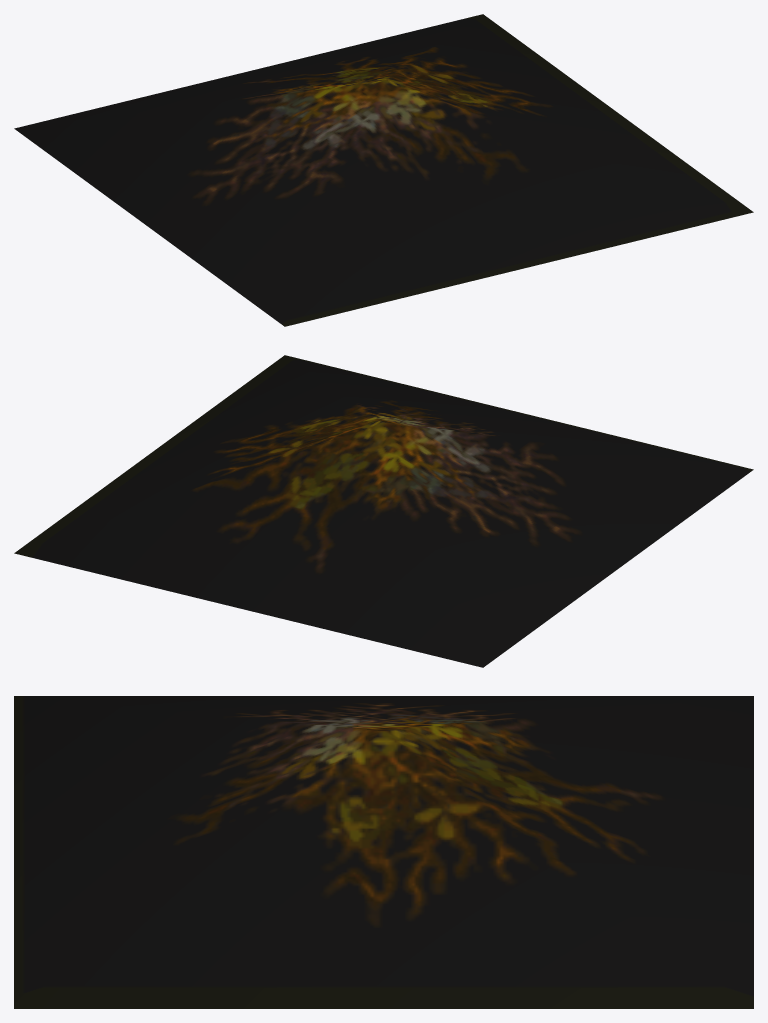
File: tlfb03_shuye.FBX
3 renders of one model, top to bottom at view 1: azimuth 30°, elevation 25°; view 2: azimuth 150°, elevation 25°; view 3: azimuth 270°, elevation 25°, orthographic. The views are drawn at different scales.
Parts seen in each view (by area): view 1: Plane01; view 2: Plane01; view 3: Plane01.
Part boxes in pixels (<box>): Plane01: <box>14,14,753,326</box>; Plane01: <box>14,355,753,667</box>; Plane01: <box>14,696,753,1008</box>.
Size of the model in its own units: 24.78 by 4.47 by 24.78.
